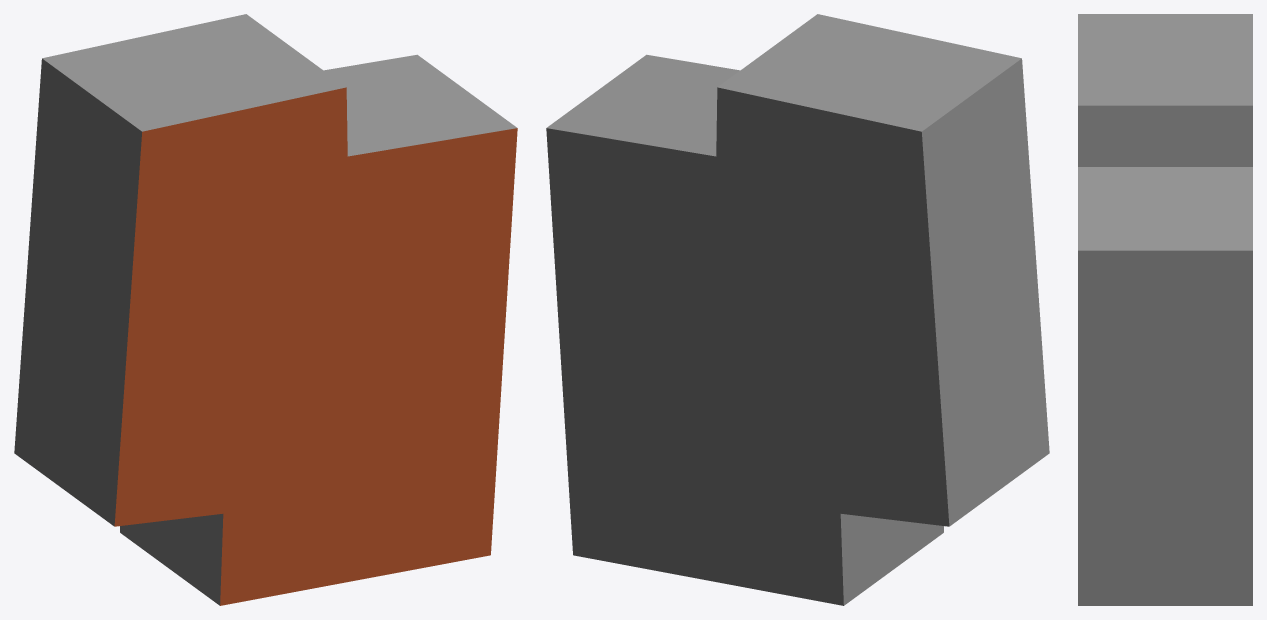
The model's file is construction_5278_assumed_A_Casa_h6m.obj.
3 renders of one model, left to right at view 1: azimuth 30°, elevation 25°; view 2: azimuth 150°, elevation 25°; view 3: azimuth 270°, elevation 25°, orthographic. The views are drawn at different scales.
Parts seen in each view (by area): view 1: construction_5278_assumed_A_Casa; view 2: construction_5278_assumed_A_Casa; view 3: construction_5278_assumed_A_Casa.
Part boxes in pixels (bbox=[...]): construction_5278_assumed_A_Casa: bbox=[14, 14, 517, 605]; construction_5278_assumed_A_Casa: bbox=[546, 14, 1049, 605]; construction_5278_assumed_A_Casa: bbox=[1078, 14, 1252, 605].
Size of the model in its own units: 13.93 by 16.79 by 6.
